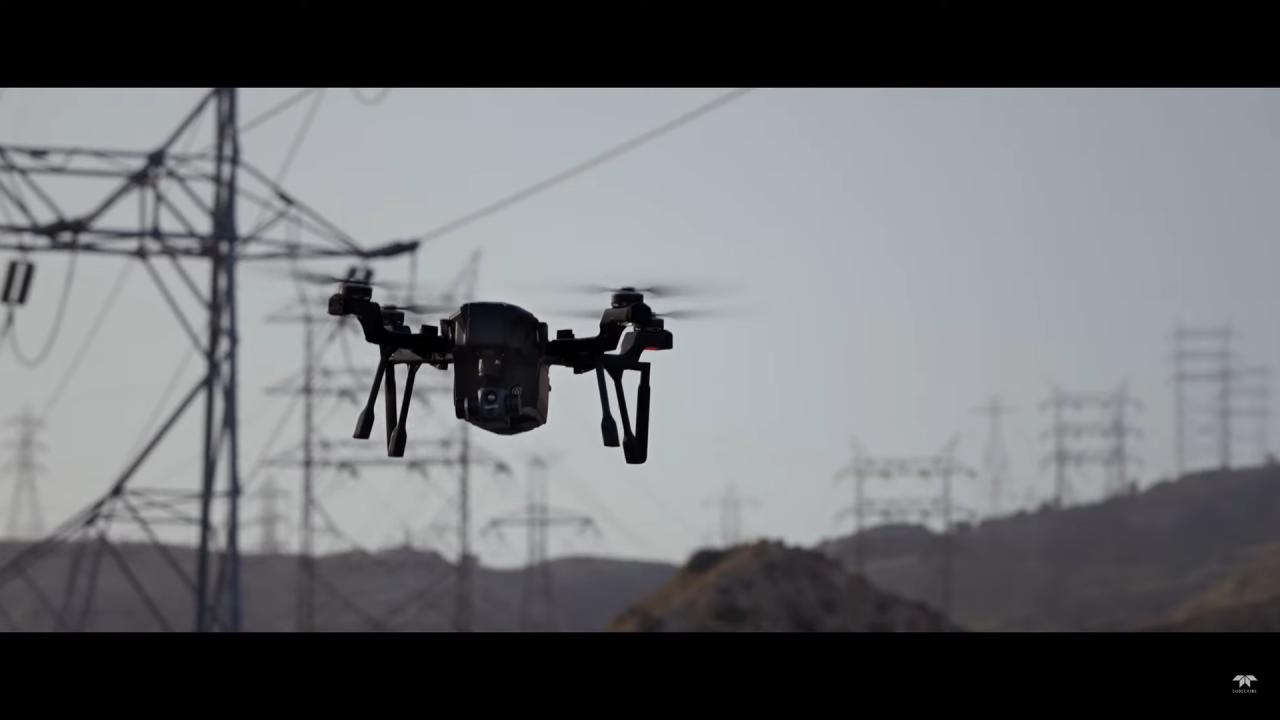Drone: (268, 243, 770, 480)
